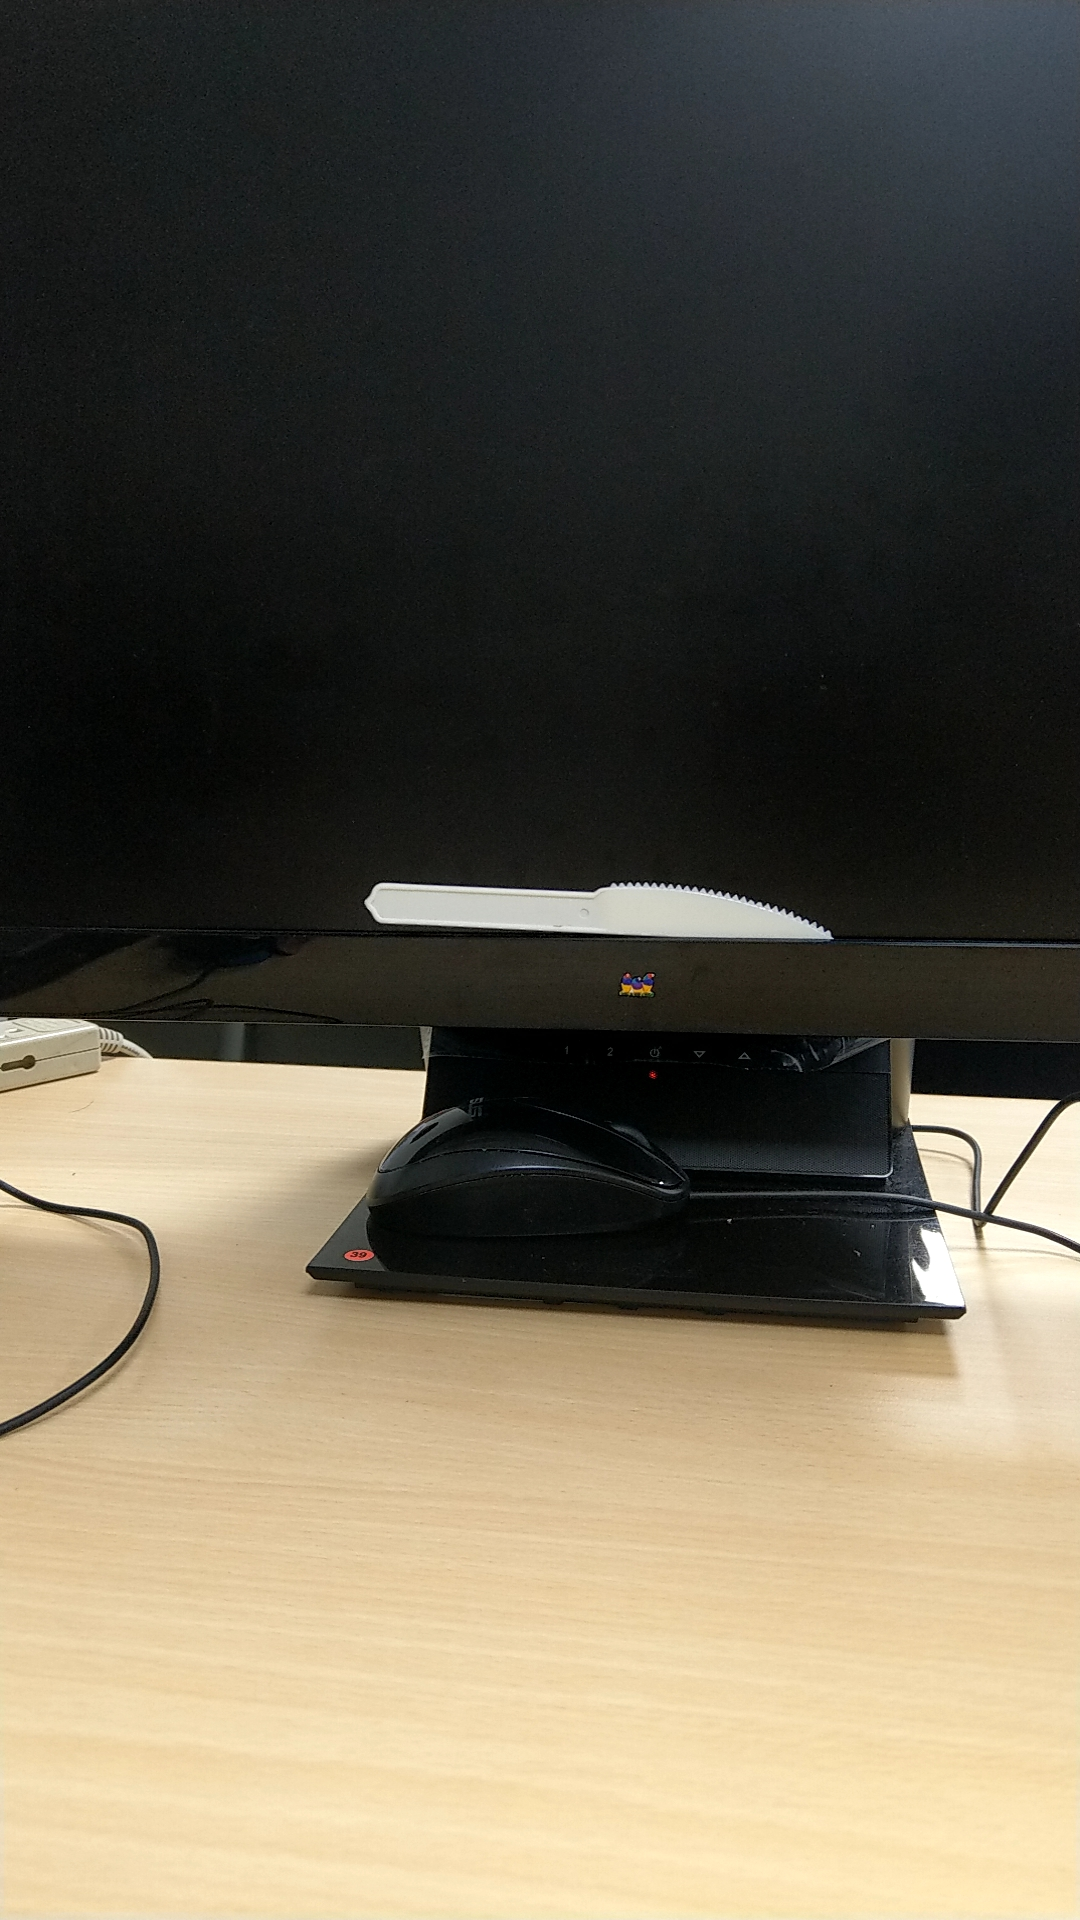knife: (345, 857, 845, 957)
